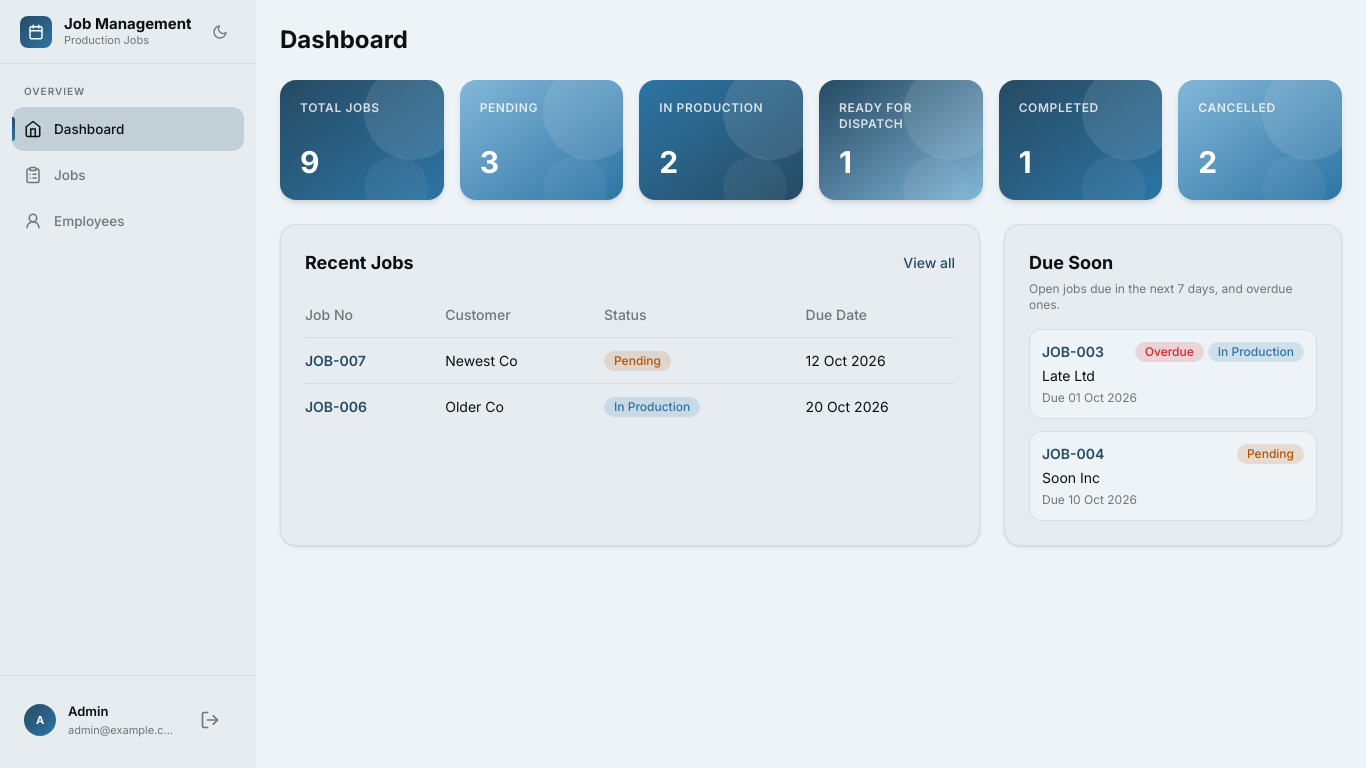
it: dashboard recent jobs › opens the job when a row is clicked
The image size is (1366, 768).
Expected: the heading "Recent Jobs" is shown, x1=305 y1=249 x2=414 y2=277
Click the text "Older Co" at coordinates (475, 406), box x1=445 y1=384 x2=604 y2=429
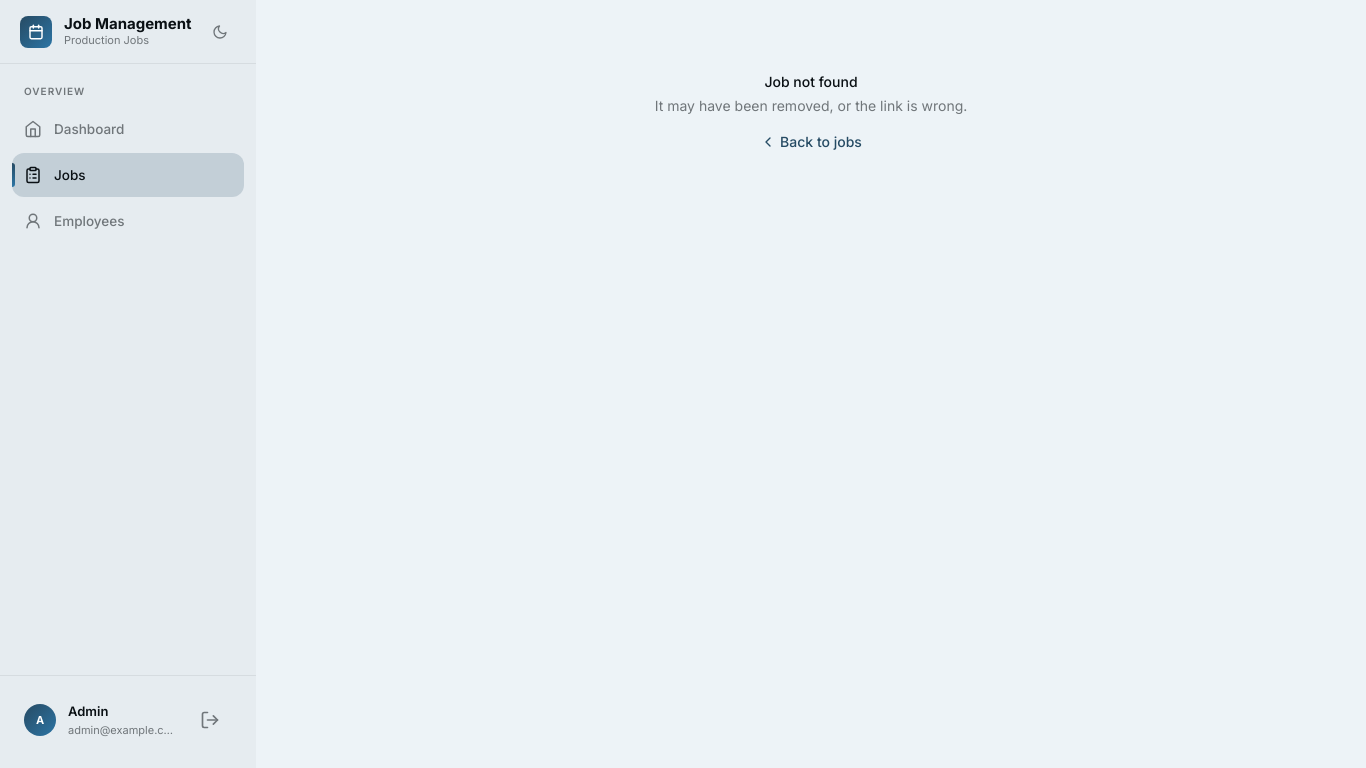
Result: the text "Job not found" is shown at x1=764 y1=73 x2=858 y2=90
